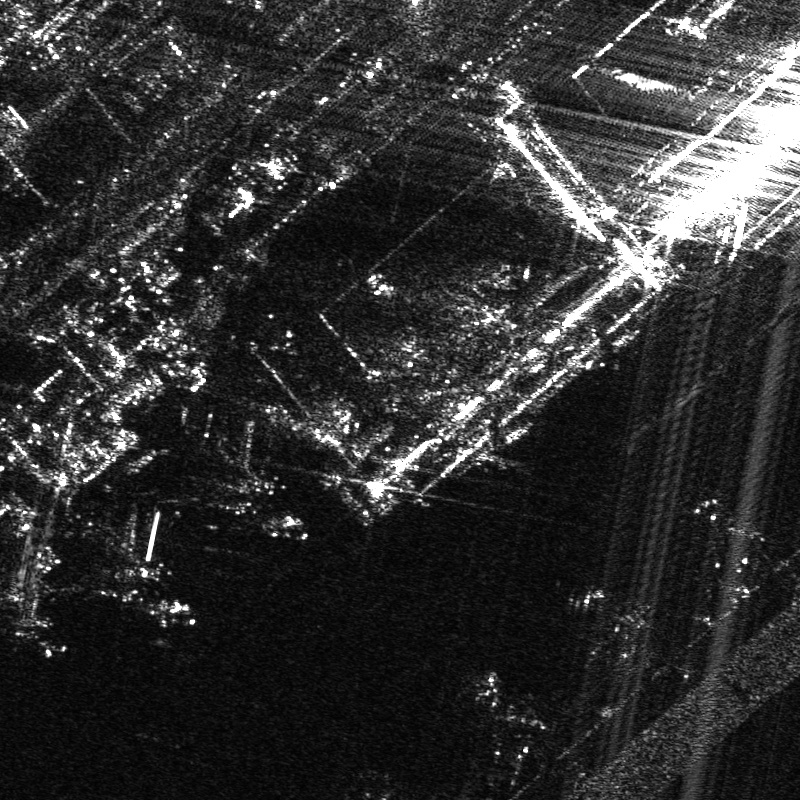Boeing787: (468, 660, 561, 764), (78, 501, 170, 597), (192, 415, 286, 495)
other: (684, 479, 781, 587), (565, 579, 665, 674)
